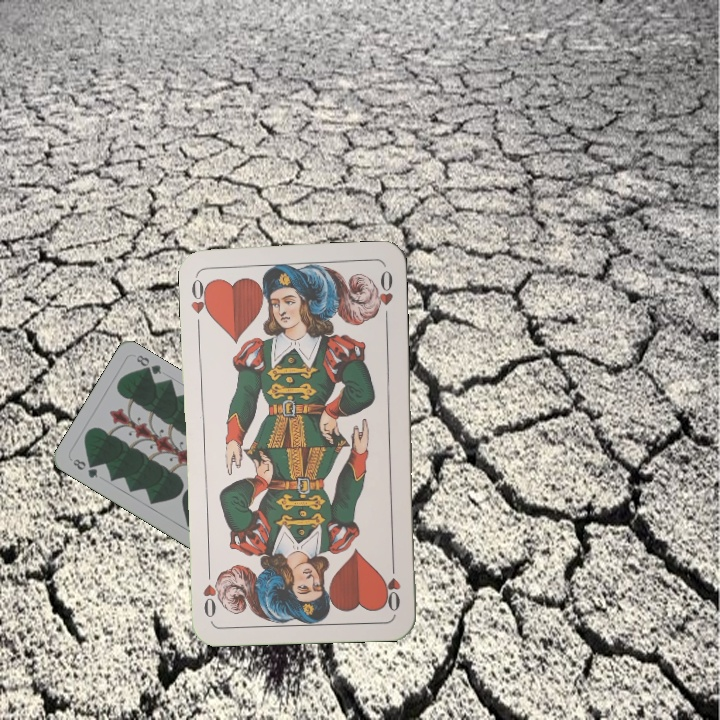G8: (68, 455, 101, 481)
HO: (187, 271, 214, 320), (381, 556, 403, 615)
